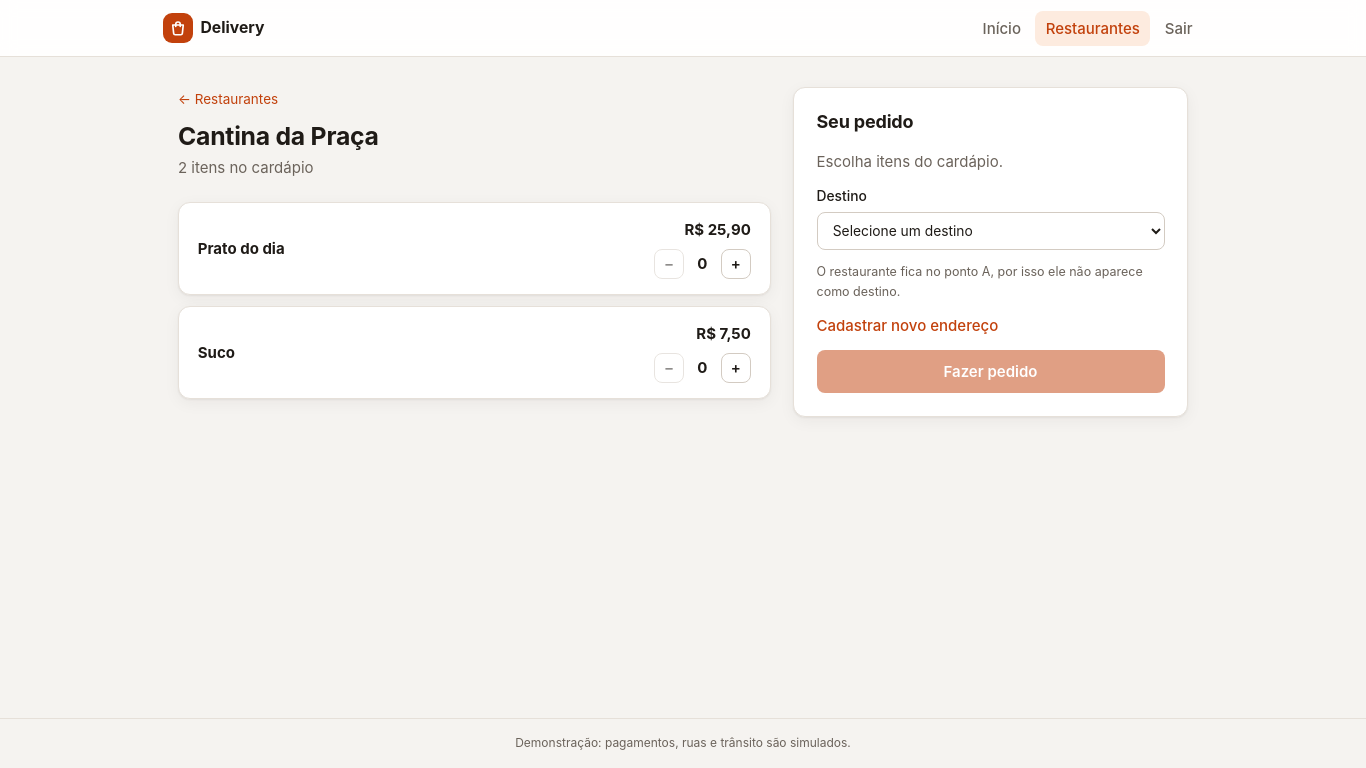
Test: checkout › does not offer the restaurant pickup point as the destination
Expected: the heading "Cantina da Praça" is shown, [178, 121, 379, 152]
Step 1. Click the button named "Adicionar uma unidade de Prato do dia" → click(736, 264), box [721, 249, 751, 279]
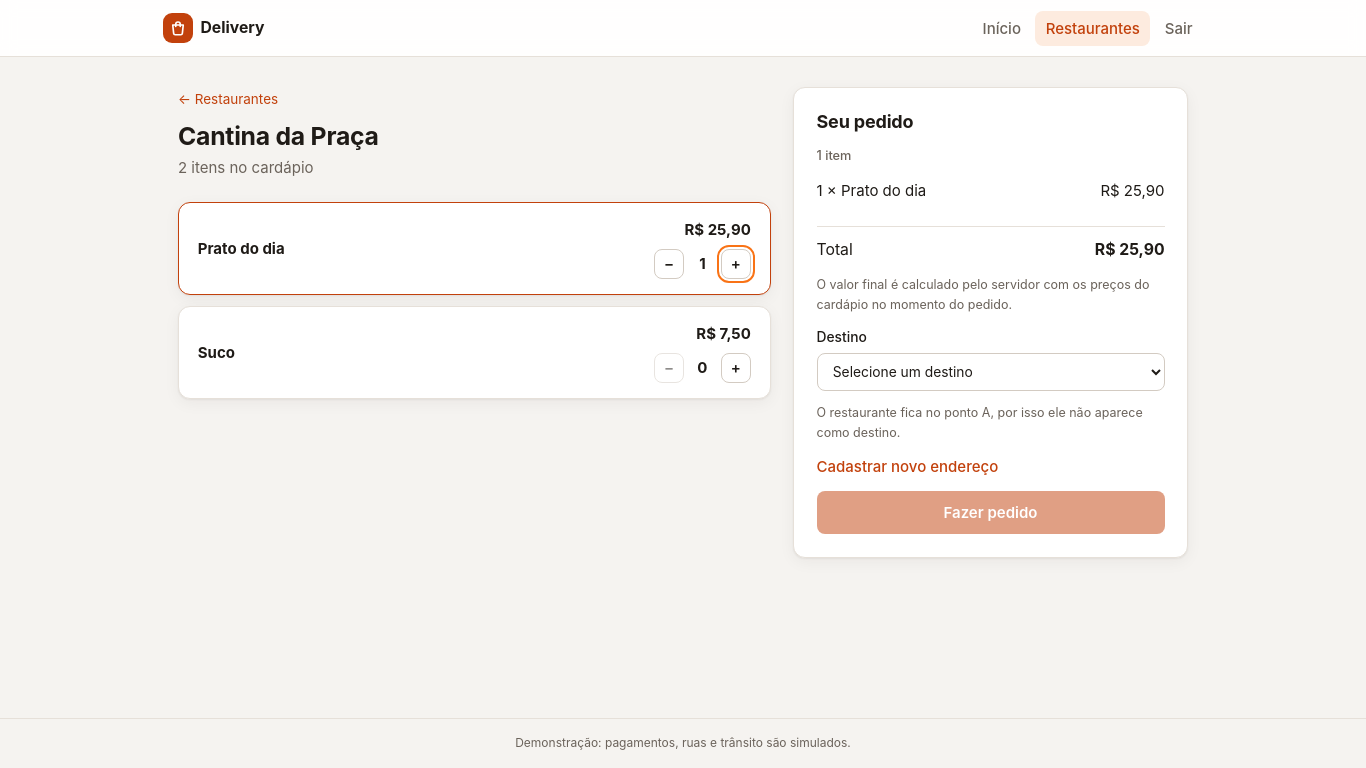
Expected: the text "O restaurante fica no ponto A" is shown, [816, 403, 1164, 442]
Expected: the text "1 item" is shown, [816, 148, 851, 163]
